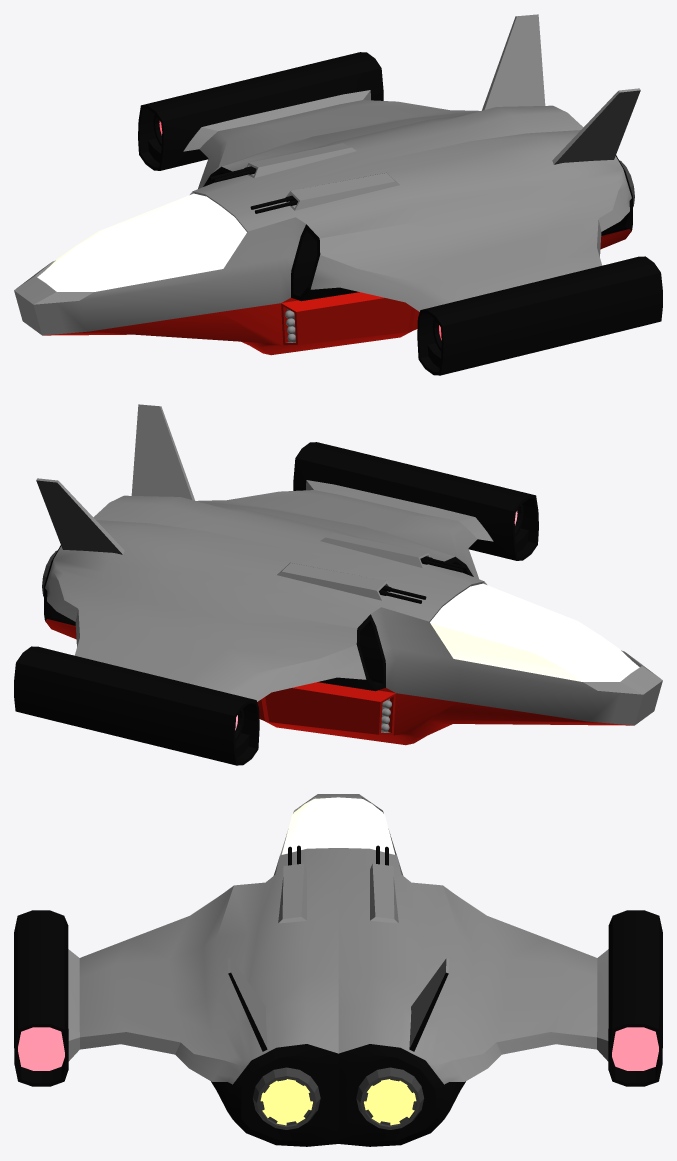
The model's file is escort_ship.fbx.
3 views of the same model, one above another, from view 1: azimuth 30°, elevation 25°; view 2: azimuth 150°, elevation 25°; view 3: azimuth 270°, elevation 25° (orthographic). The views are drawn at different scales.
Visible parts, largest first — view 1: Cylinder; view 2: Cylinder; view 3: Cylinder.
Boxes of the visible parts, <box> form: Cylinder: <box>14,14,662,375</box>; Cylinder: <box>14,404,662,765</box>; Cylinder: <box>14,794,662,1146</box>.
Bounding box in the file's own units: 521 × 191 × 480.
